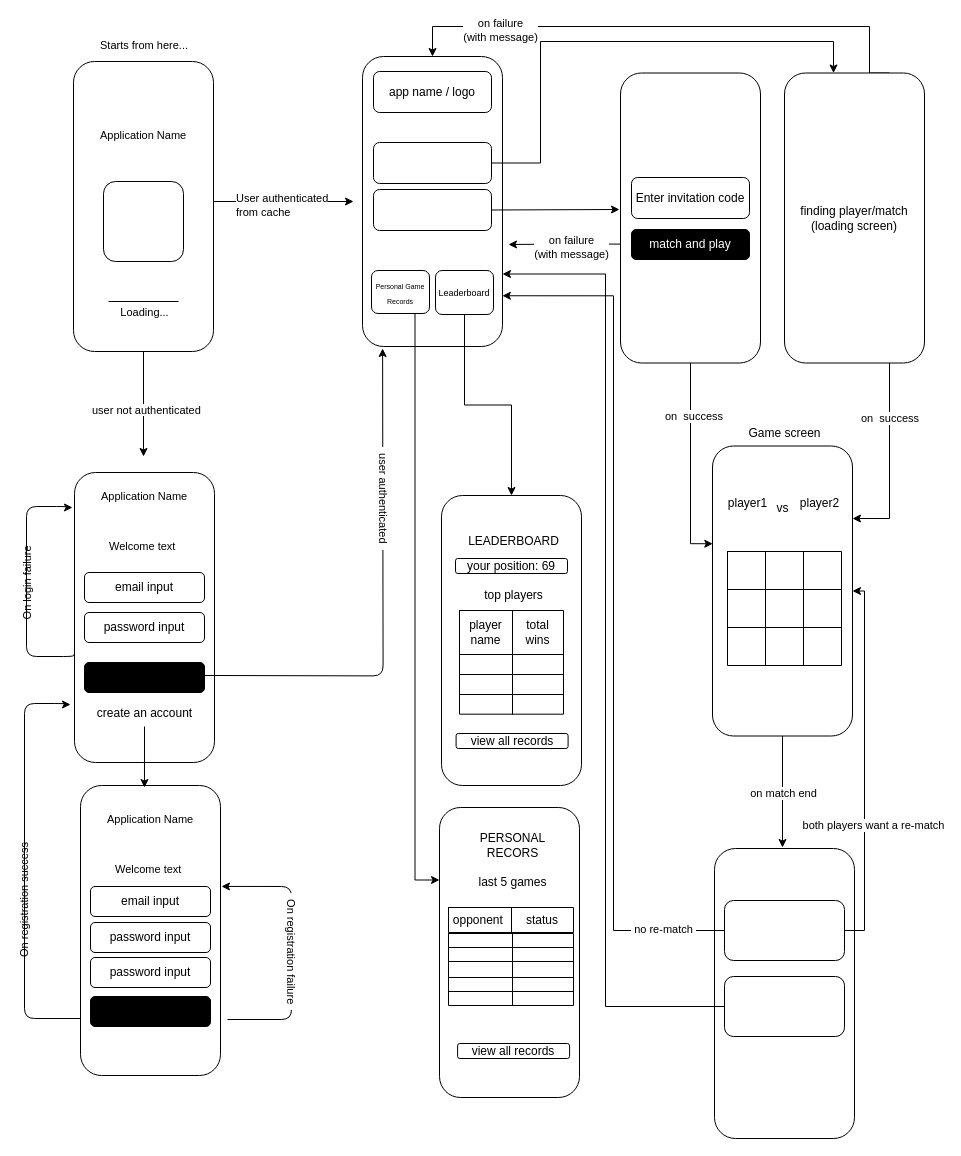
This 961x1156 diagram has some shape labels left out. The shapes that lost their labels are listed below. From the top down, each one's centre as x and y in pixels, then its label:
At point 432,163: "Find online players".
At point 143,221: "Logo".
At point 432,209: "Join with invitation code".
At point 144,677: "Login".
At point 784,930: "re-match".
At point 150,1011: "Register".
At point 784,1006: "end session".
